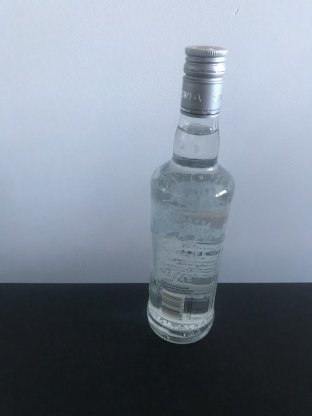nakretka: (178, 42, 230, 120)
